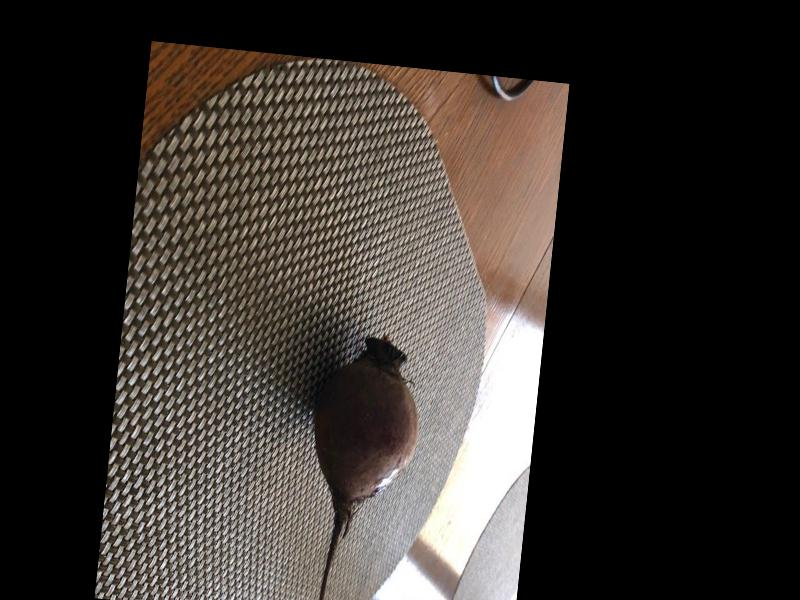Beet: (296, 332, 426, 600)
